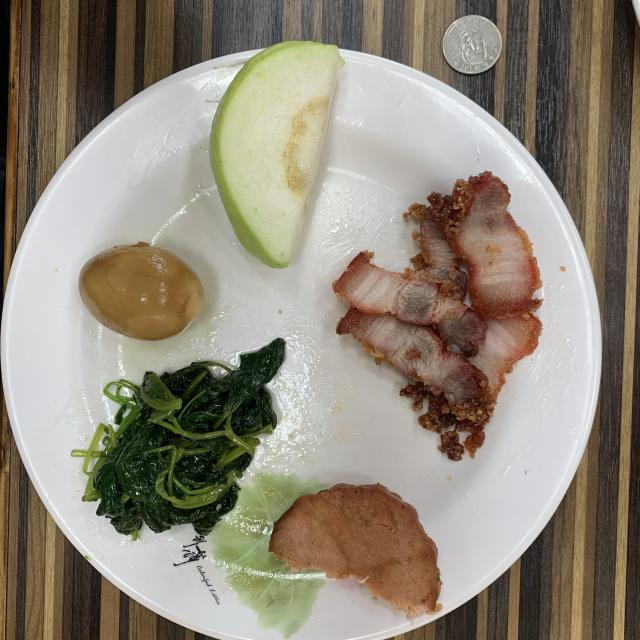Spam: (269, 484, 441, 619)
coin: (442, 15, 502, 74)
guava -sliced-: (210, 41, 344, 269)
red grilled pork: (332, 171, 541, 460)
soy egg: (79, 242, 204, 340)
sweet potato leaves: (71, 339, 285, 540)
